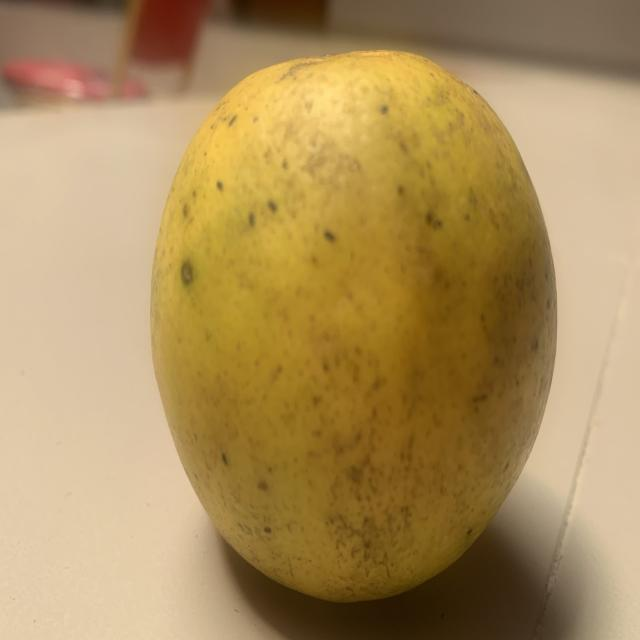Ripe orange: (135, 42, 562, 597)
